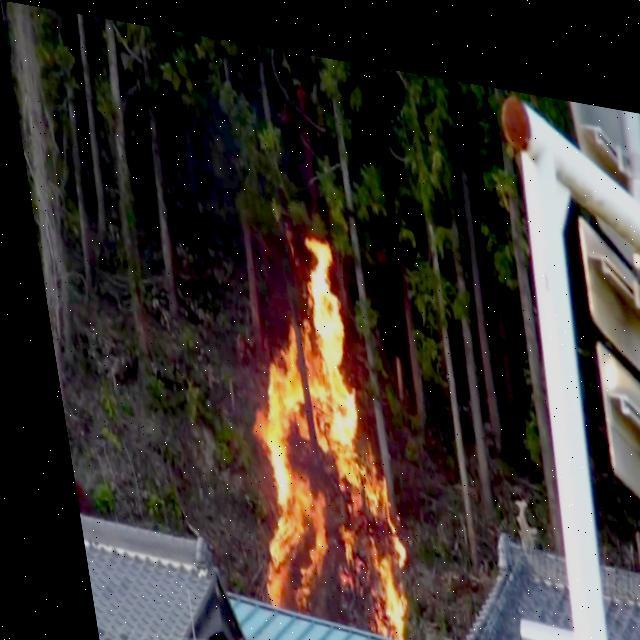Fire: (203, 209, 400, 634)
